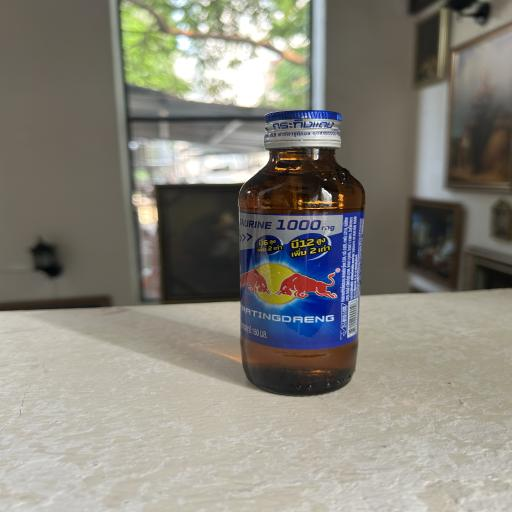bo_huc: (224, 106, 375, 400)
